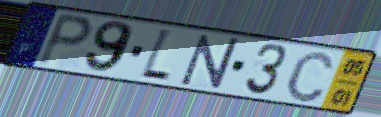3: (244, 43, 289, 98)
9: (83, 20, 138, 76)
C: (283, 49, 336, 104)
L: (137, 25, 173, 85)
N: (178, 33, 242, 91)
P: (34, 10, 96, 69)
